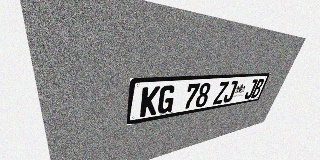7: (182, 83, 200, 110)
8: (194, 82, 212, 108)
B: (250, 79, 265, 98)
G: (156, 85, 177, 114)
J: (222, 81, 239, 103), (243, 79, 258, 99)
K: (139, 86, 160, 117)
Z: (212, 81, 229, 105)
